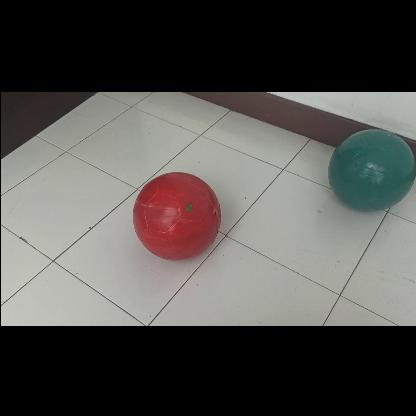red_ball: (131, 171, 217, 257)
